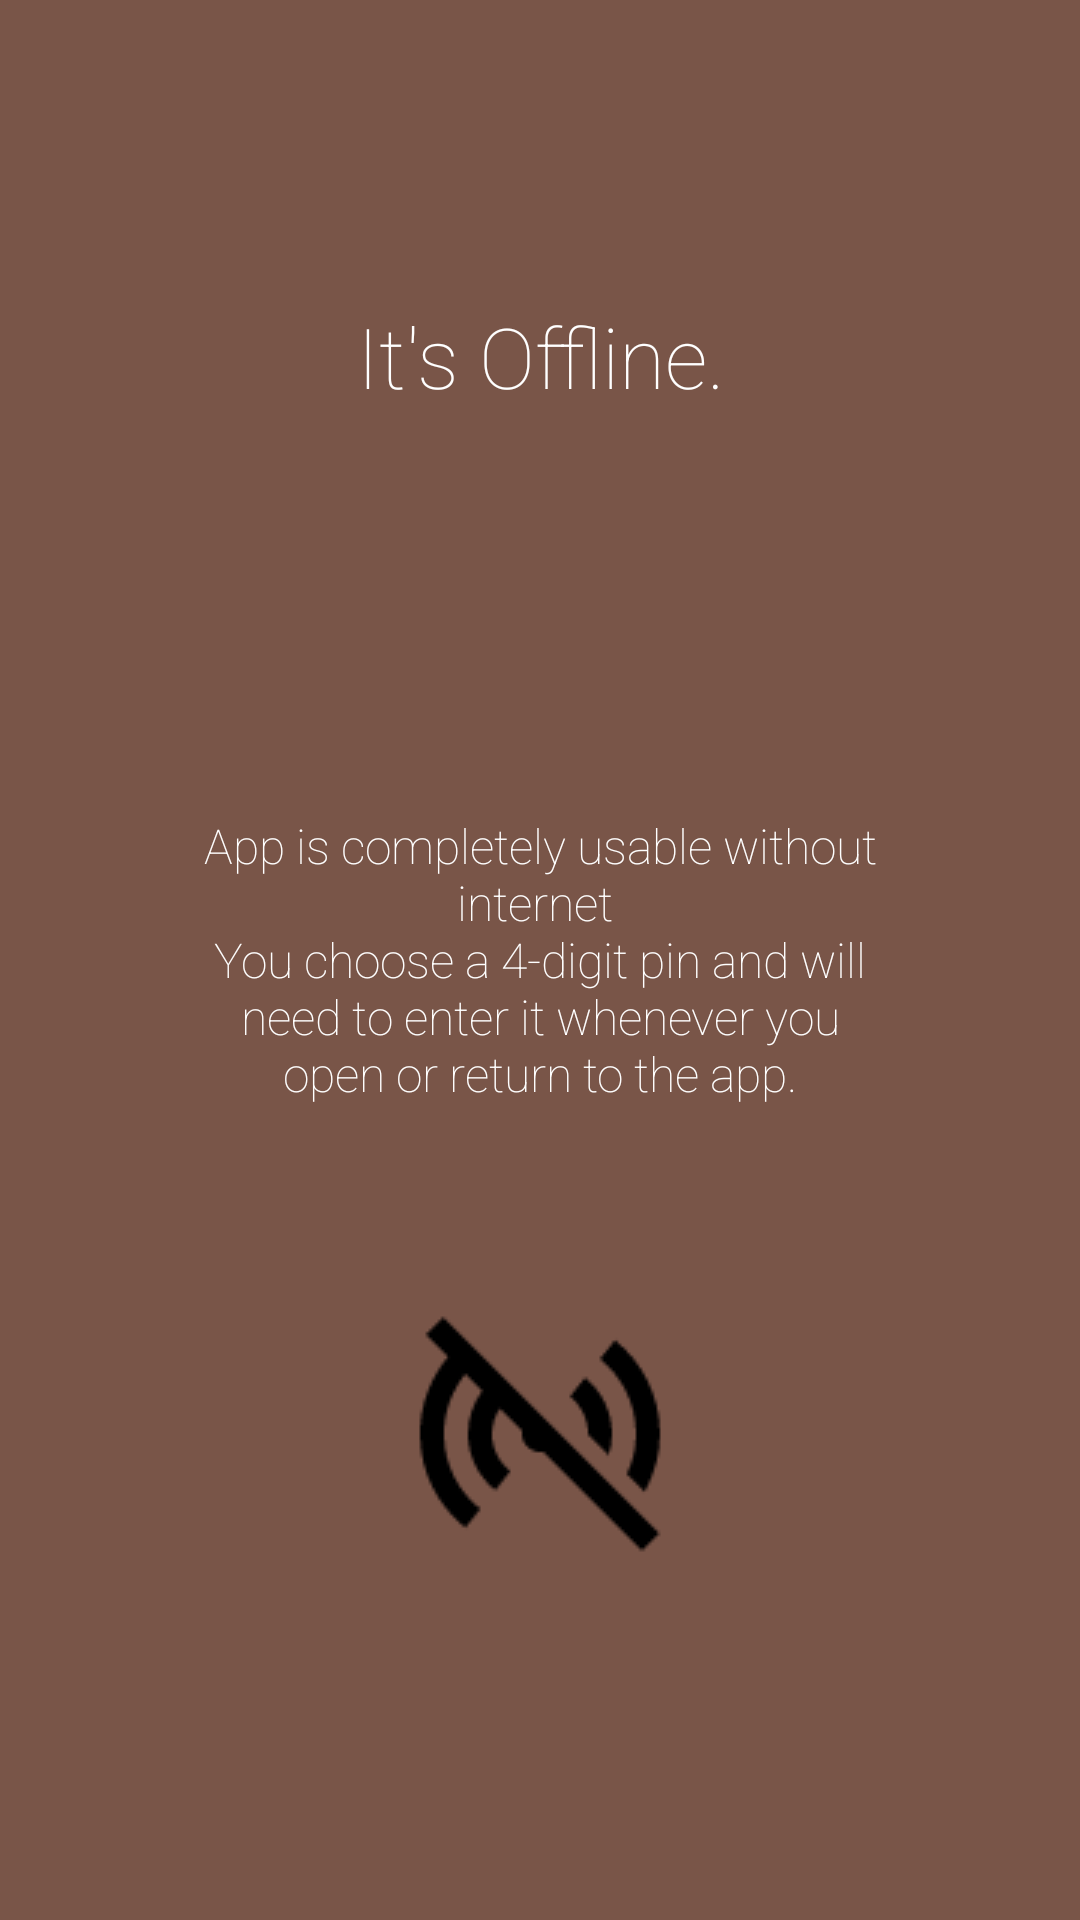

Point at icon controls on the screen. Image size 1080x1920, points as point (x, y).
offline: point (540, 1434)
